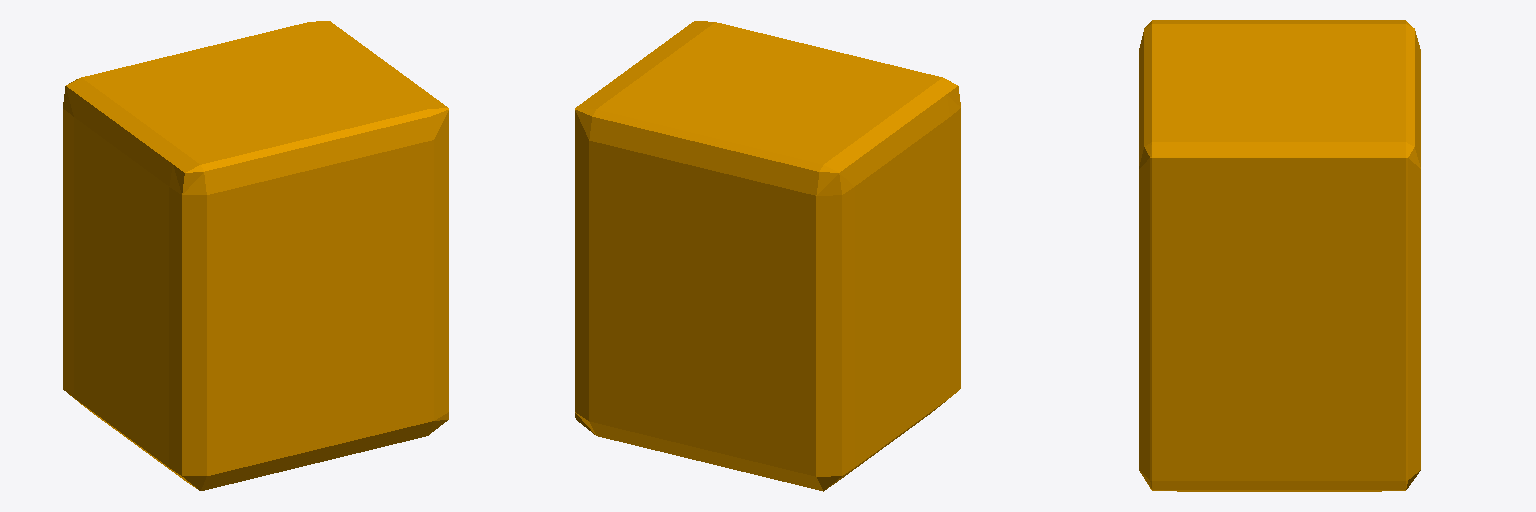
robot.urdf — cylinder_box_182:
<?xml version="1.0" encoding="utf-8"?>  <robot name="cylinder_box_182">   <link name="cylinder_box_182">     <visual>       <geometry>         <mesh filename="../meshes/box/box_182.stl" scale="1 1 1"/>       </geometry>     </visual>     <collision>       <geometry>         <mesh filename="../meshes/box/box_182.stl" scale="1 1 1"/>       </geometry>     </collision>     <inertial>        <origin         xyz="0 0 0"         rpy="0 0 0" />       <mass value="0.26822355288624866"/>       <origin rpy="0 0 0" xyz="0 0 0"/>       <inertia ixx="0.00019336074493550546" ixy="1.695358039563907e-08" ixz="2.5973767287220998e-08" iyy="0.00021790431001247407" iyz="-1.1212045267165309e-09" izz="0.0001595359195901258"/>     </inertial>   </link>  </robot>

--- Facts derived from the render (not from the file) ---
3 views of the same robot in one strip: view 1: azimuth 30°, elevation 25°; view 2: azimuth 150°, elevation 25°; view 3: azimuth 270°, elevation 25° (orthographic).
Model cylinder_box_182 with 1 links and 0 joints (none), rooted at cylinder_box_182, posed every joint at zero.
Visible links, largest first — view 1: cylinder_box_182; view 2: cylinder_box_182; view 3: cylinder_box_182.
Boxes of the visible links, bbox=[...] form: cylinder_box_182: bbox=[63, 21, 448, 490]; cylinder_box_182: bbox=[575, 21, 960, 491]; cylinder_box_182: bbox=[1139, 20, 1420, 491].
Bounding box of the posed robot: 0.0649 × 0.0556 × 0.0757 m (x, y, z).
1 mesh visuals loaded from 1 distinct referenced files (1 binary STL).